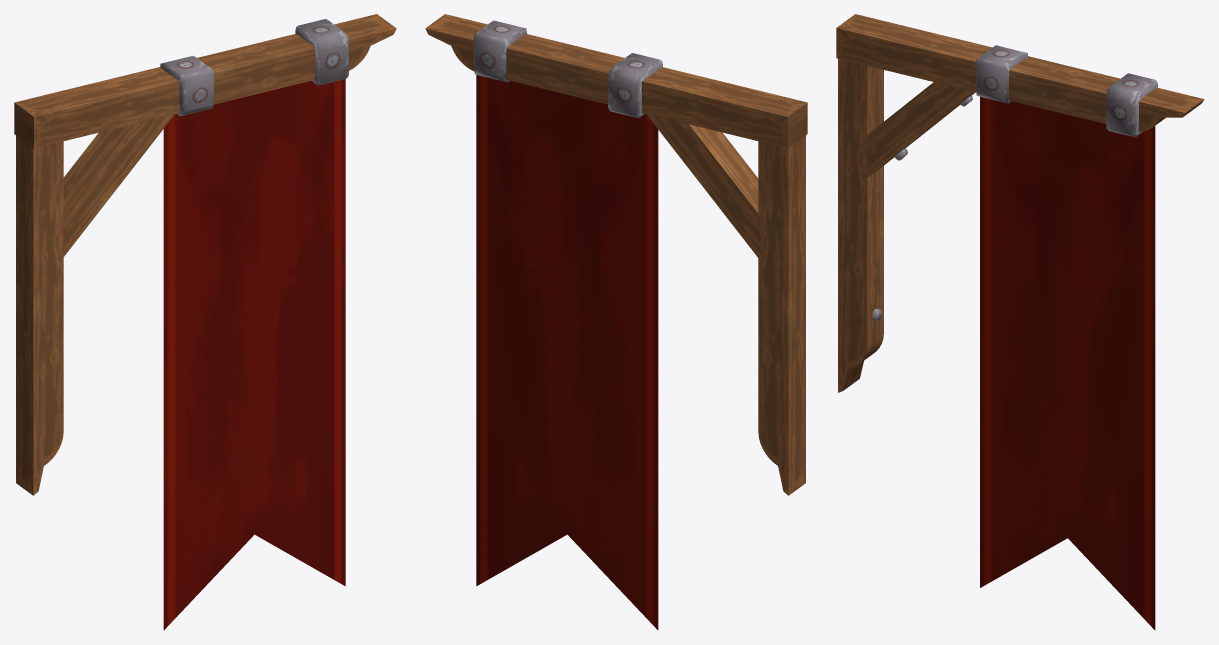
The model's file is banner.glb.
The picture shows the model from 3 angles, left to right: view 1: azimuth 30°, elevation 25°; view 2: azimuth 150°, elevation 25°; view 3: azimuth 330°, elevation 25°; orthographic projection. The views are drawn at different scales.
Parts seen in each view (by area): view 1: Banner_1; view 2: Banner_1; view 3: Banner_1.
Boxes of the visible parts, box(x1,y1,x2,y2) form: Banner_1: box(14, 14, 396, 630); Banner_1: box(425, 14, 807, 630); Banner_1: box(836, 14, 1204, 630).
Bounding box in the file's own units: 1.61 × 2.39 × 0.1906.
3 materials, 3 textured.
